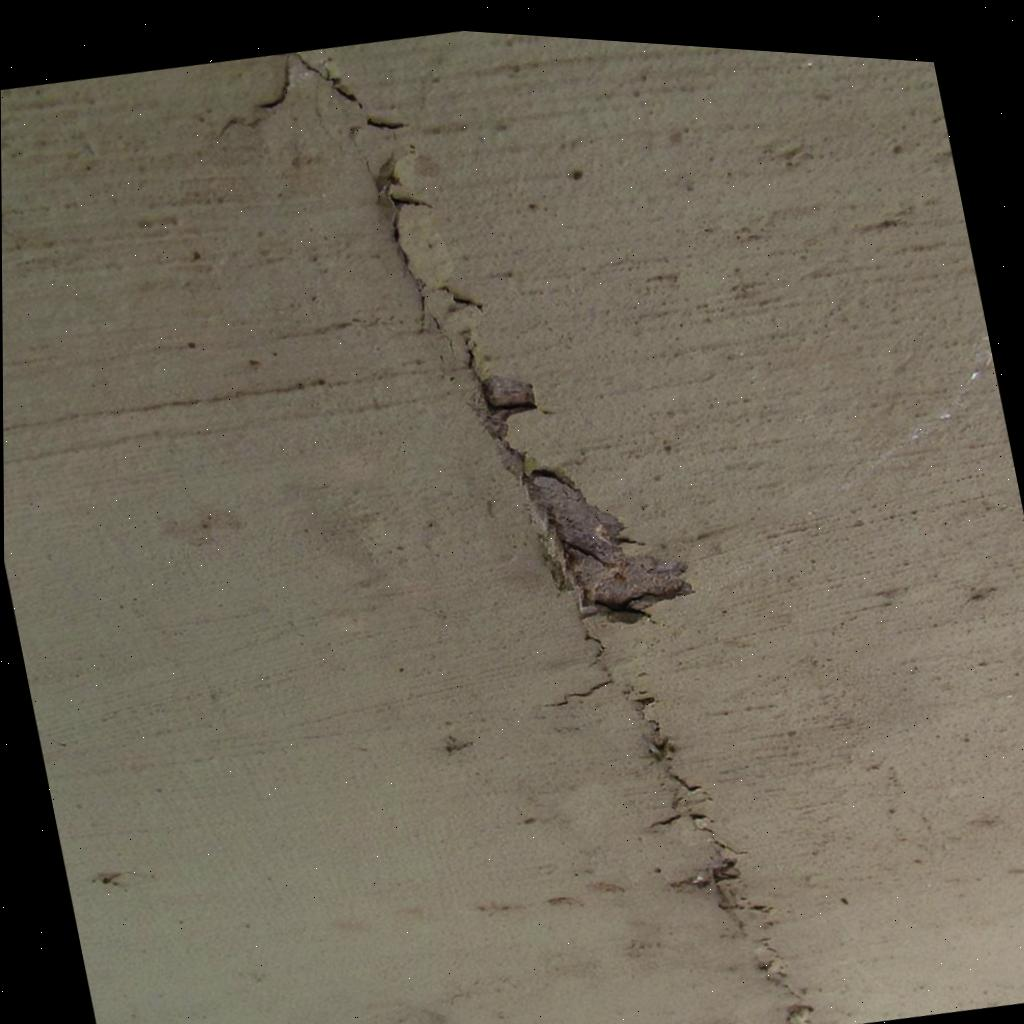spalling: (522, 455, 691, 614), (481, 376, 537, 446)
